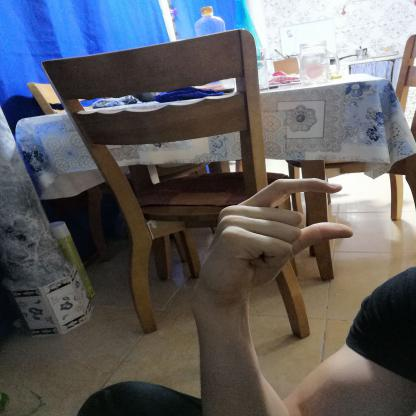DELL: (192, 168, 366, 302)
